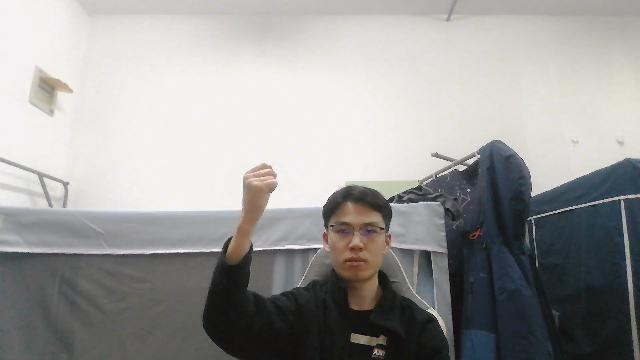ten: (241, 160, 279, 233)
